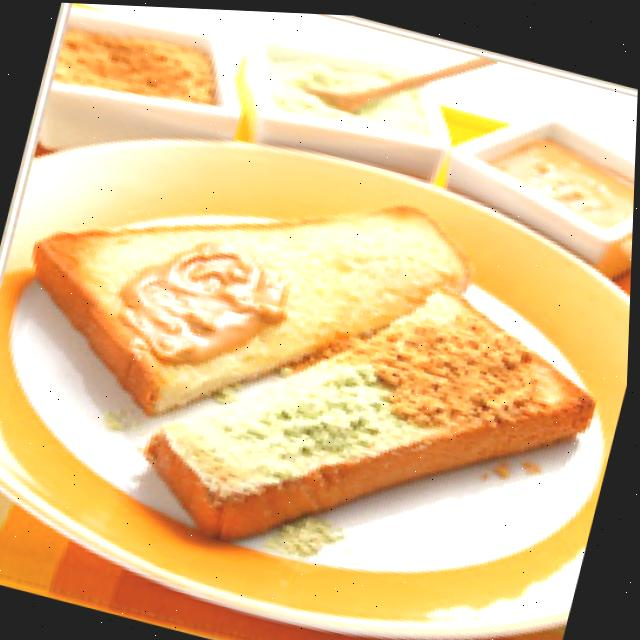面包点心: (0, 126, 636, 617)
